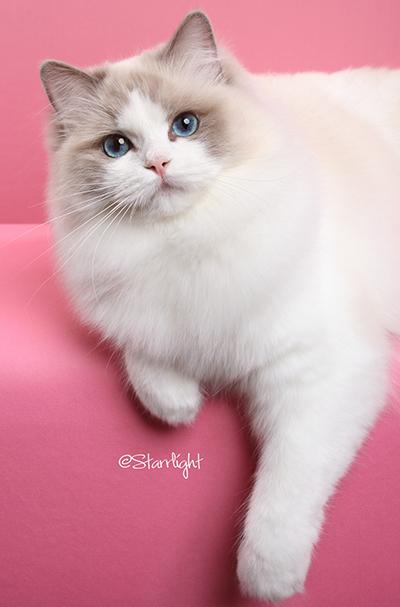ragdoll: (24, 1, 262, 259)
